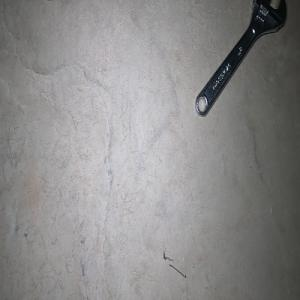Wrench: (194, 0, 287, 116)
